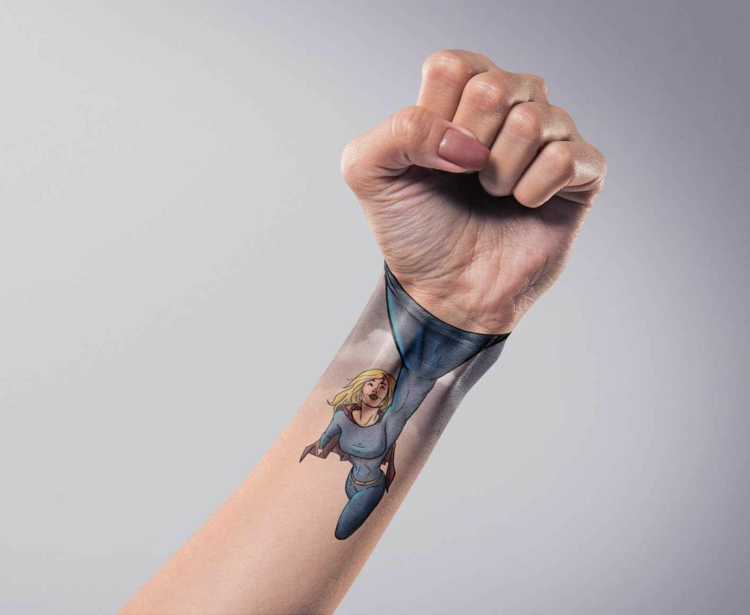fist: (337, 45, 610, 317)
